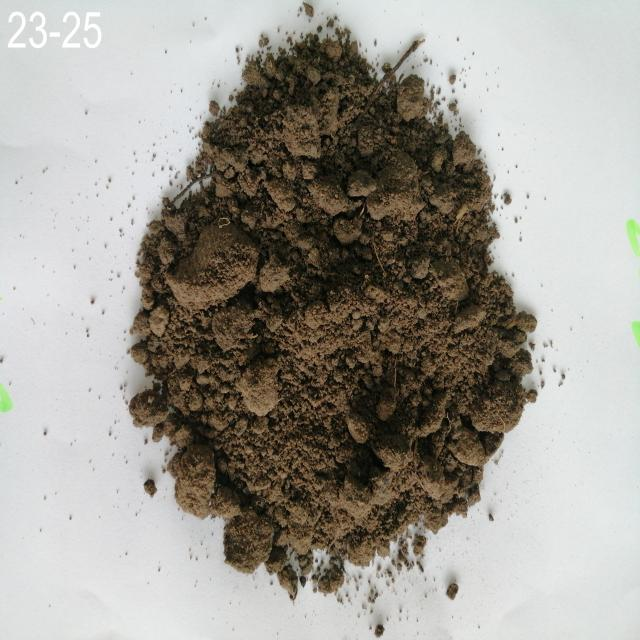soil: (220, 103, 451, 516)
